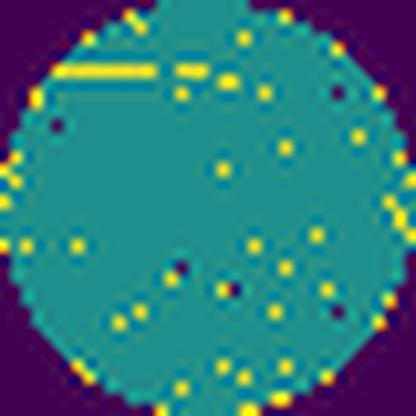Scratch: (48, 60, 161, 83)
